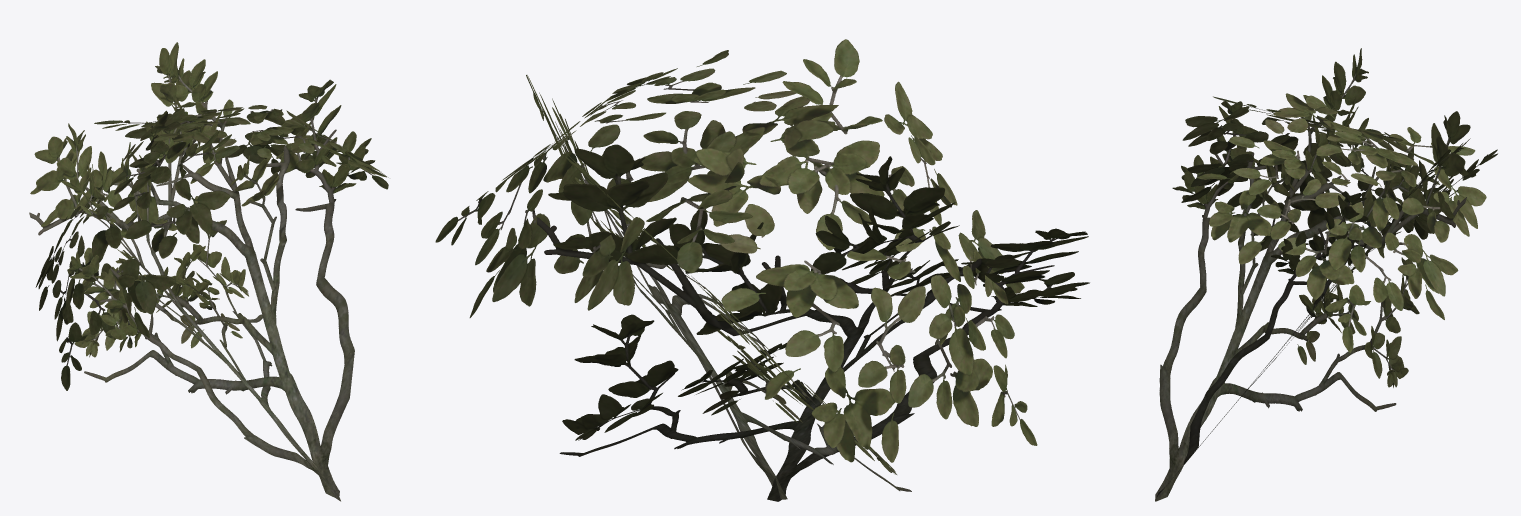
File: TI_Tree_Bushy_Branch_01.fbx
3 renders of one model, left to right at view 1: azimuth 30°, elevation 25°; view 2: azimuth 150°, elevation 25°; view 3: azimuth 270°, elevation 25°, orthographic. The views are drawn at different scales.
Parts seen in each view (by area): view 1: TI_Tree_Bushy_Branch_01; view 2: TI_Tree_Bushy_Branch_01; view 3: TI_Tree_Bushy_Branch_01.
Boxes of the visible parts, x1=… form: TI_Tree_Bushy_Branch_01: x1=29, y1=42, x2=388, y2=501; TI_Tree_Bushy_Branch_01: x1=435, y1=39, x2=1089, y2=501; TI_Tree_Bushy_Branch_01: x1=1155, y1=48, x2=1497, y2=501.
Size of the model in its own units: 1.05 by 0.9572 by 0.7839.
